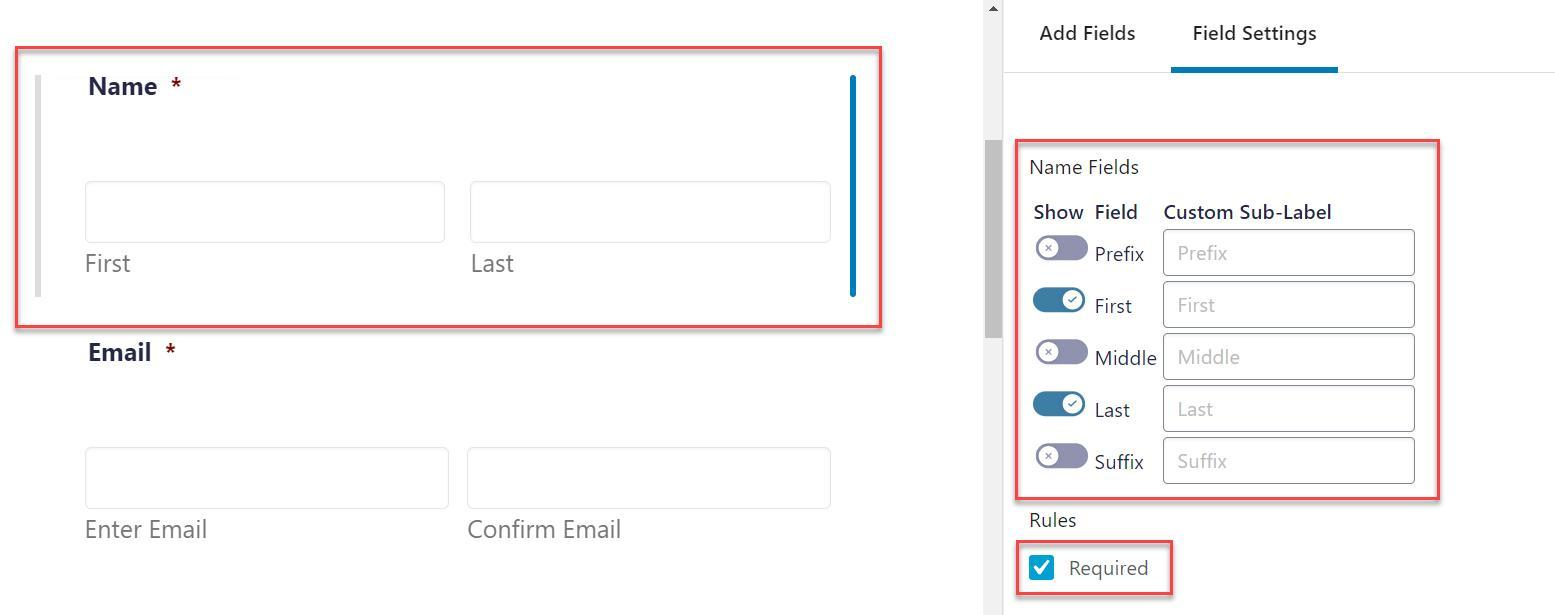button: (1173, 1, 1337, 73)
checkbox: (1031, 556, 1057, 582)
input: (468, 447, 831, 509), (473, 181, 834, 242), (87, 449, 448, 509), (88, 184, 447, 244), (1165, 386, 1416, 435), (1164, 282, 1417, 330), (1164, 333, 1417, 381), (1163, 229, 1415, 275), (1166, 439, 1417, 484)
label: (465, 514, 632, 549), (78, 511, 215, 545), (1027, 18, 1149, 53), (89, 68, 187, 110), (1029, 155, 1143, 189), (80, 340, 191, 373), (457, 250, 523, 284), (1068, 559, 1153, 584), (72, 253, 148, 278), (1021, 508, 1084, 533), (1098, 348, 1160, 371), (1093, 450, 1152, 474), (1091, 399, 1137, 424), (1095, 293, 1137, 320), (1092, 247, 1151, 265)
switch: (1030, 385, 1090, 423), (1033, 440, 1091, 474), (1037, 334, 1091, 370), (1031, 284, 1088, 313), (1037, 233, 1090, 263)
